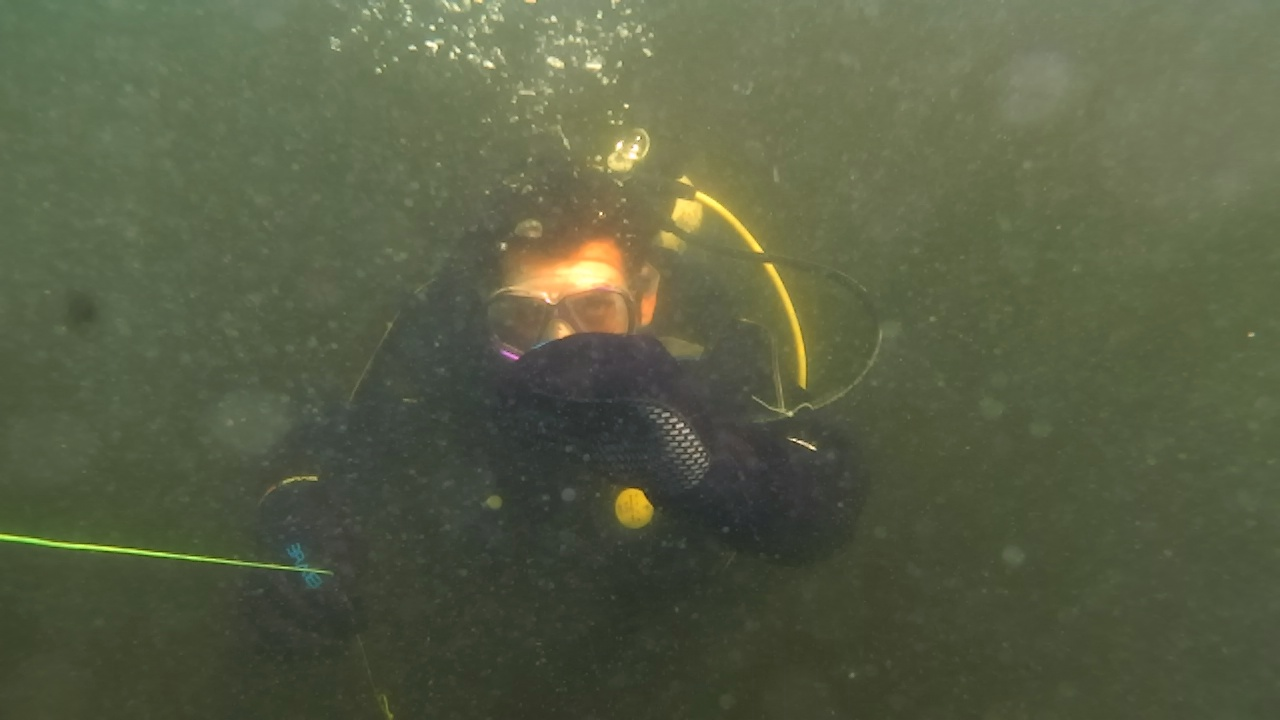Diver: (222, 162, 894, 670)
Hand: (486, 336, 714, 520), (226, 490, 398, 656)
Head: (470, 166, 656, 356)
